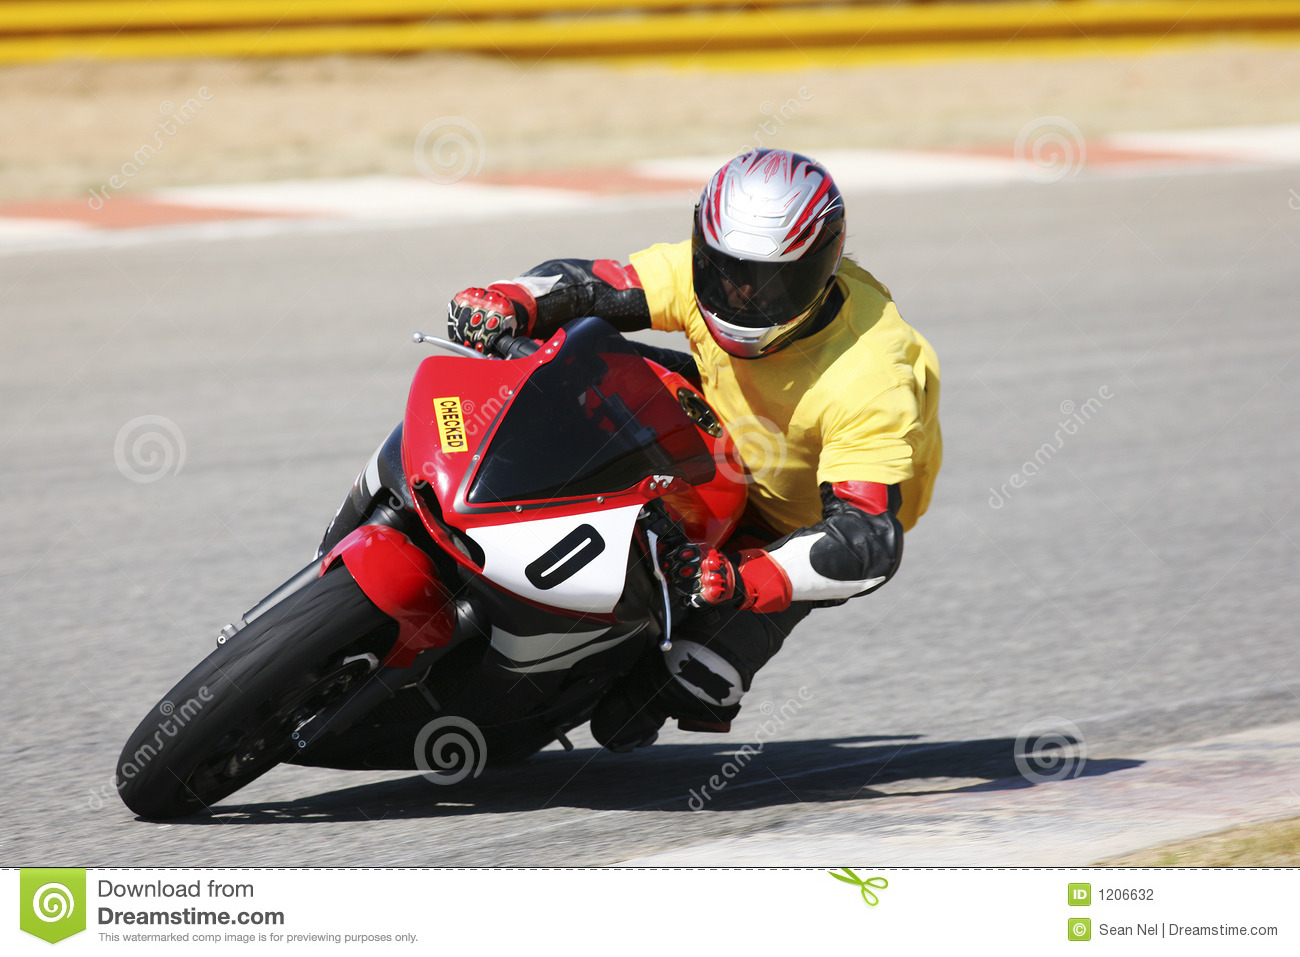helmet: (690, 159, 846, 348)
